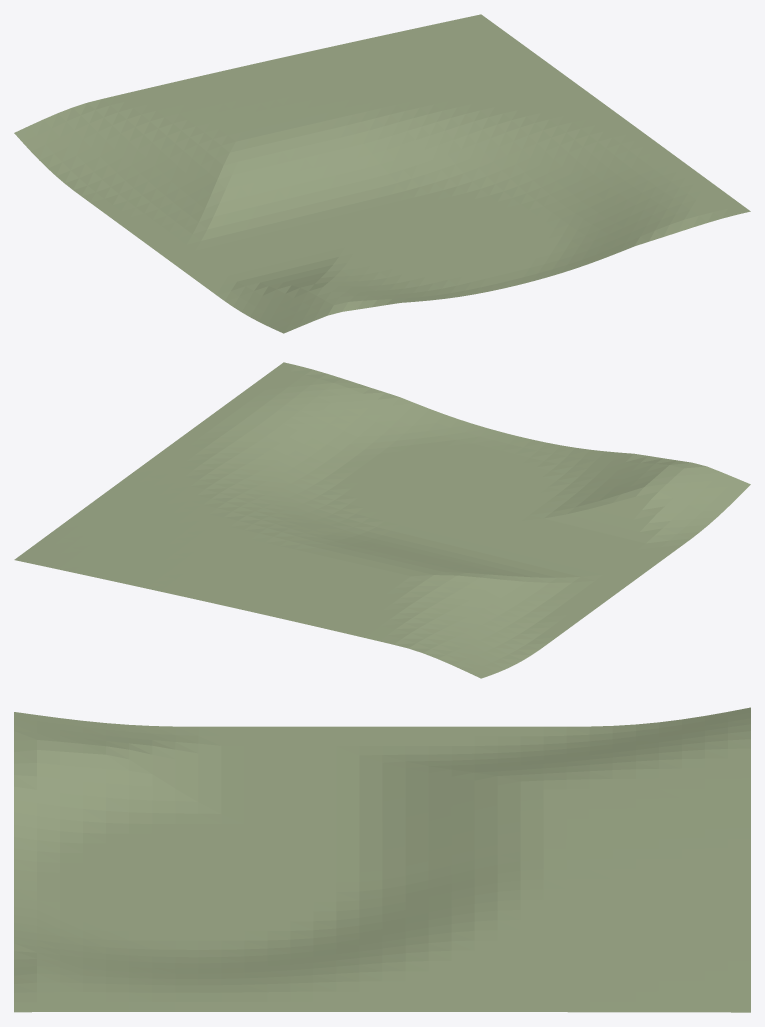
File: gardens-7-2.glb
The picture shows the model from 3 angles, top to bottom: view 1: azimuth 30°, elevation 25°; view 2: azimuth 150°, elevation 25°; view 3: azimuth 270°, elevation 25°; orthographic projection. The views are drawn at different scales.
Visible parts, largest first — view 1: gardens-7-2; view 2: gardens-7-2; view 3: gardens-7-2.
Part boxes in pixels (x1,y1,x2,y2): gardens-7-2: (14,14,750,333); gardens-7-2: (14,362,750,678); gardens-7-2: (14,707,750,1012).
Size of the model in its own units: 256 by 13.91 by 256.
